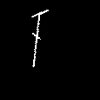double_crochet: (32, 10, 47, 66)
